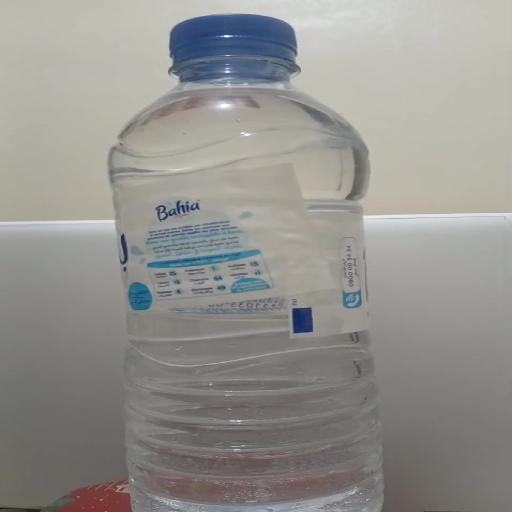bouteille conformite: (91, 13, 408, 512)
